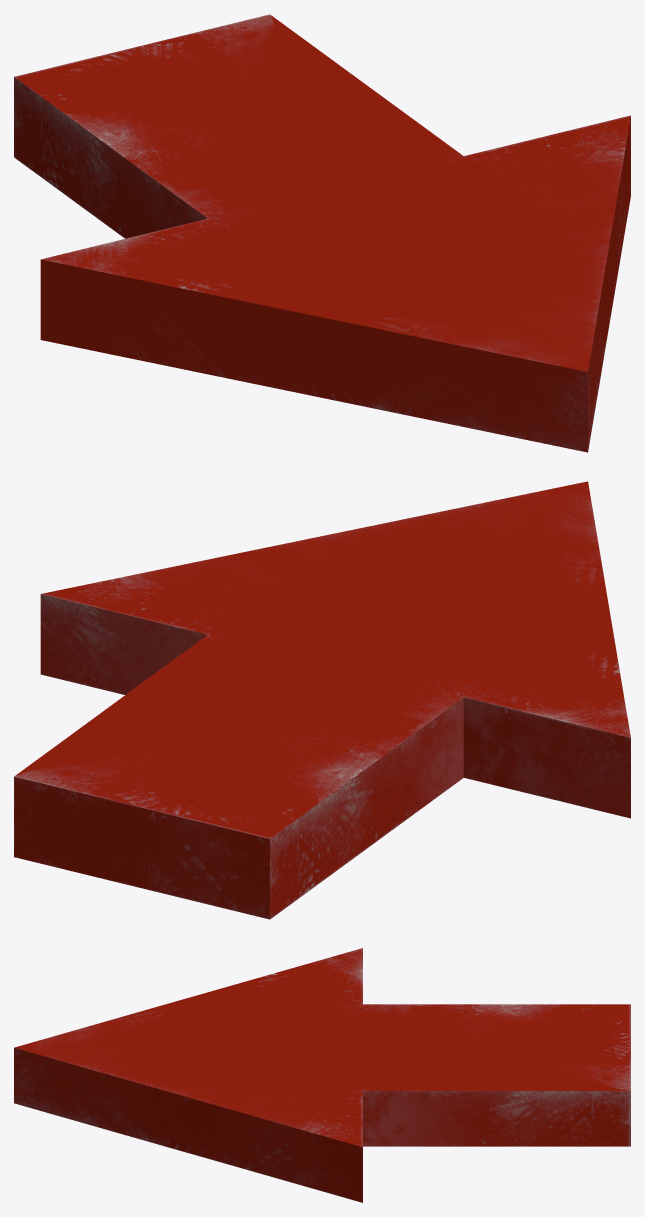
File: newpinballvec.fbx
The picture shows the model from 3 angles, top to bottom: view 1: azimuth 30°, elevation 25°; view 2: azimuth 150°, elevation 25°; view 3: azimuth 270°, elevation 25°; orthographic projection. The views are drawn at different scales.
Visible parts, largest first — view 1: newpinballvec; view 2: newpinballvec; view 3: newpinballvec.
Boxes of the visible parts, box(x1,y1,x2,y2) form: newpinballvec: box(14, 14, 630, 452); newpinballvec: box(14, 481, 630, 919); newpinballvec: box(14, 948, 630, 1202).
Size of the model in its own units: 12.14 by 1.58 by 15.89.
